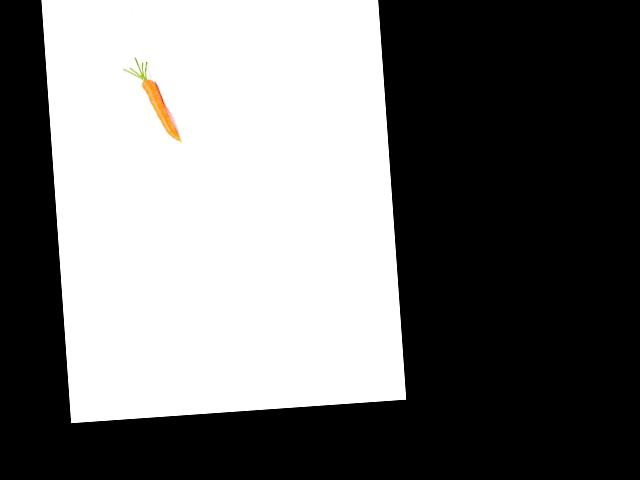carrot: (135, 69, 182, 146)
